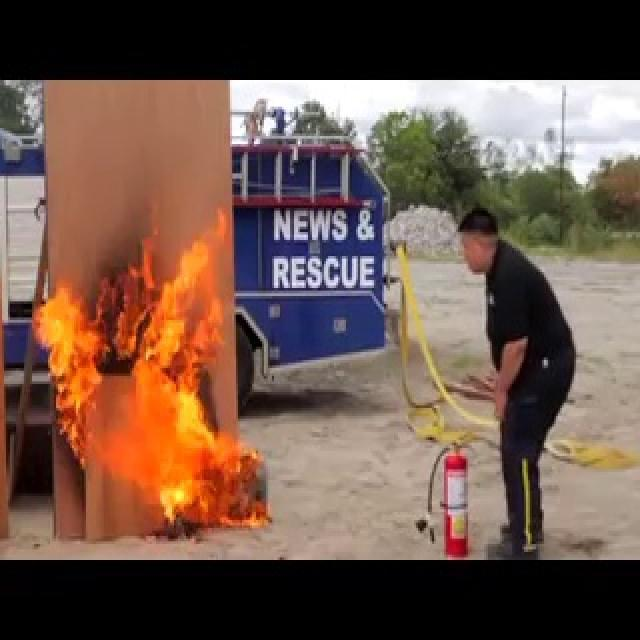fire: (28, 197, 272, 544)
